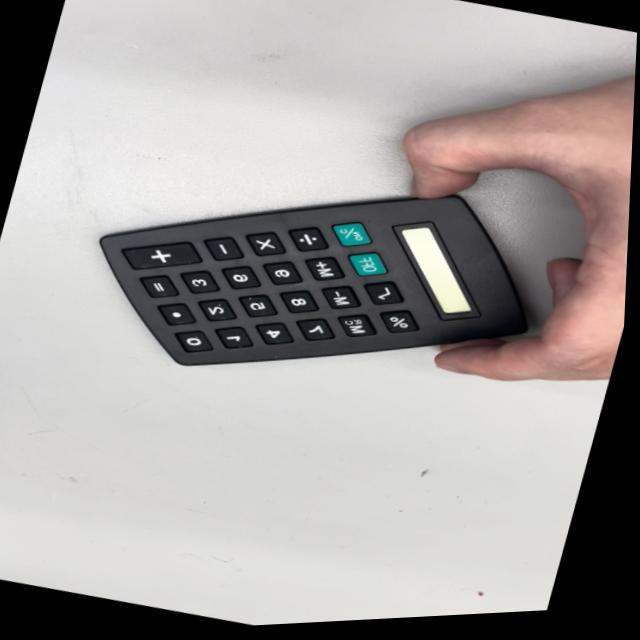calculator: (60, 117, 547, 441)
